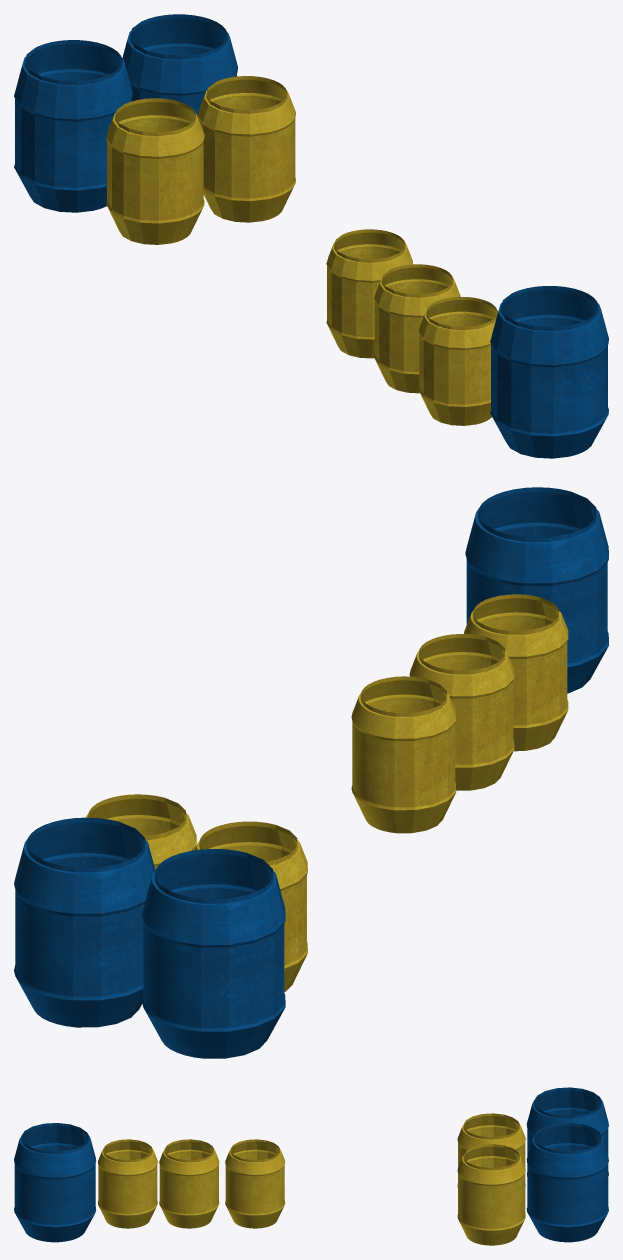
File: Canecas .obj
3 renders of one model, top to bottom at view 1: azimuth 30°, elevation 25°; view 2: azimuth 150°, elevation 25°; view 3: azimuth 270°, elevation 25°, orthographic. The views are drawn at different scales.
Parts seen in each view (by area): view 1: Canecas.001_Cylinder.002; view 2: Canecas.001_Cylinder.002; view 3: Canecas.001_Cylinder.002.
Part boxes in pixels (left/top/right/bottom): Canecas.001_Cylinder.002: left=14, top=14, right=608, bottom=458; Canecas.001_Cylinder.002: left=14, top=487, right=608, bottom=1058; Canecas.001_Cylinder.002: left=14, top=1087, right=608, bottom=1245.
Size of the model in its own units: 2.19 by 1.34 by 7.68.
